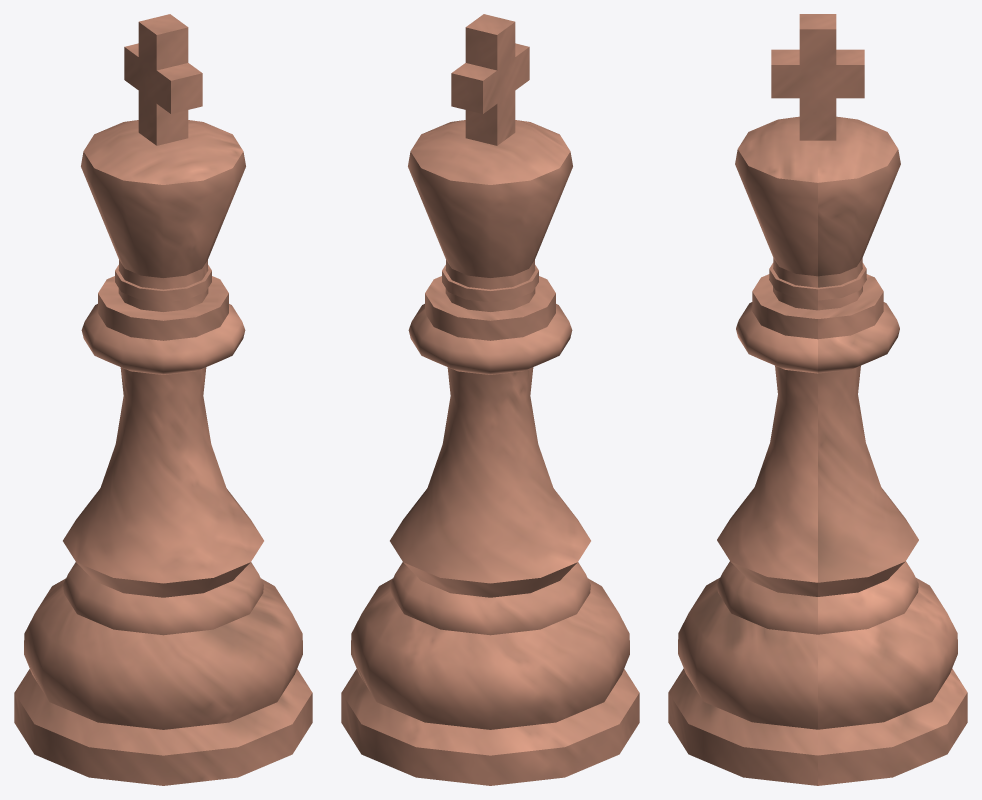
The model's file is Chess_White_king.fbx.
3 renders of one model, left to right at view 1: azimuth 30°, elevation 25°; view 2: azimuth 150°, elevation 25°; view 3: azimuth 270°, elevation 25°, orthographic.
Parts seen in each view (by area): view 1: Chess_pawn.010; view 2: Chess_pawn.010; view 3: Chess_pawn.010.
Part boxes in pixels (box(x1,y1,x2,y2)): Chess_pawn.010: box(14, 14, 312, 785); Chess_pawn.010: box(341, 14, 639, 785); Chess_pawn.010: box(668, 14, 967, 785).
Size of the model in its own units: 31.07 by 80.34 by 31.07.
